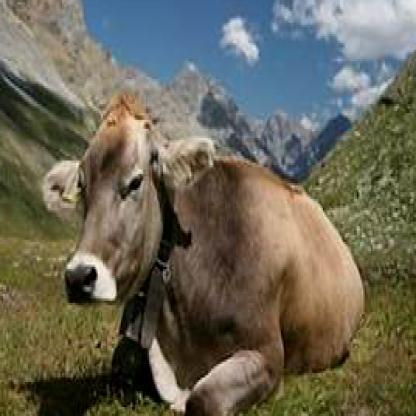cow: (40, 86, 366, 414)
